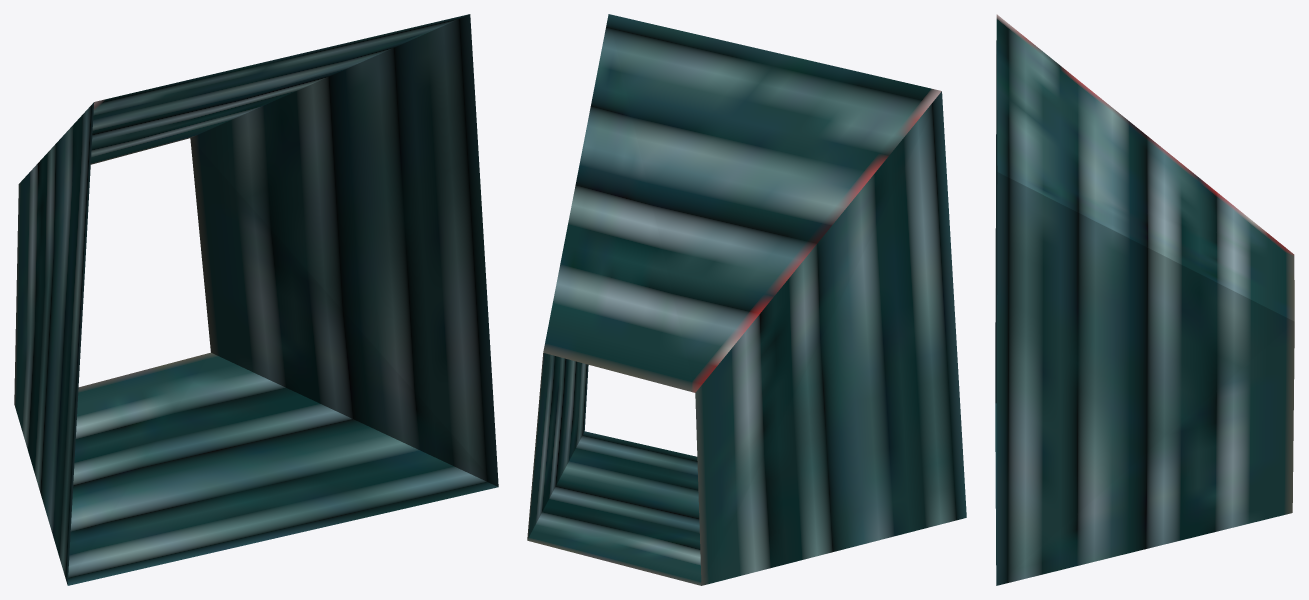
File: Lichtschranke_mech_2700.glb
3 renders of one model, left to right at view 1: azimuth 30°, elevation 25°; view 2: azimuth 150°, elevation 25°; view 3: azimuth 270°, elevation 25°, orthographic. The views are drawn at different scales.
Parts seen in each view (by area): view 1: pPlaneShape27; view 2: pPlaneShape27; view 3: pPlaneShape27.
Boxes of the visible parts, x1,y1,x2,y2 form: pPlaneShape27: (14, 14, 498, 585); pPlaneShape27: (527, 14, 966, 585); pPlaneShape27: (995, 14, 1294, 585).
Bounding box in the file's own units: 0.0575 × 0.0615 × 0.0411.
Materials: 1 (1 with a texture image).
